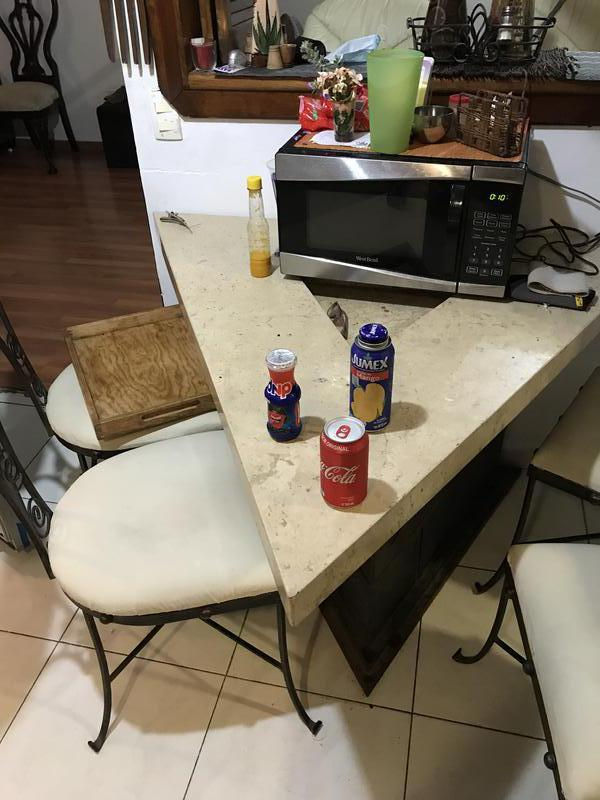coca_cola: (320, 417, 370, 510)
danup: (265, 350, 304, 442)
jugo_jumex: (346, 324, 394, 434)
